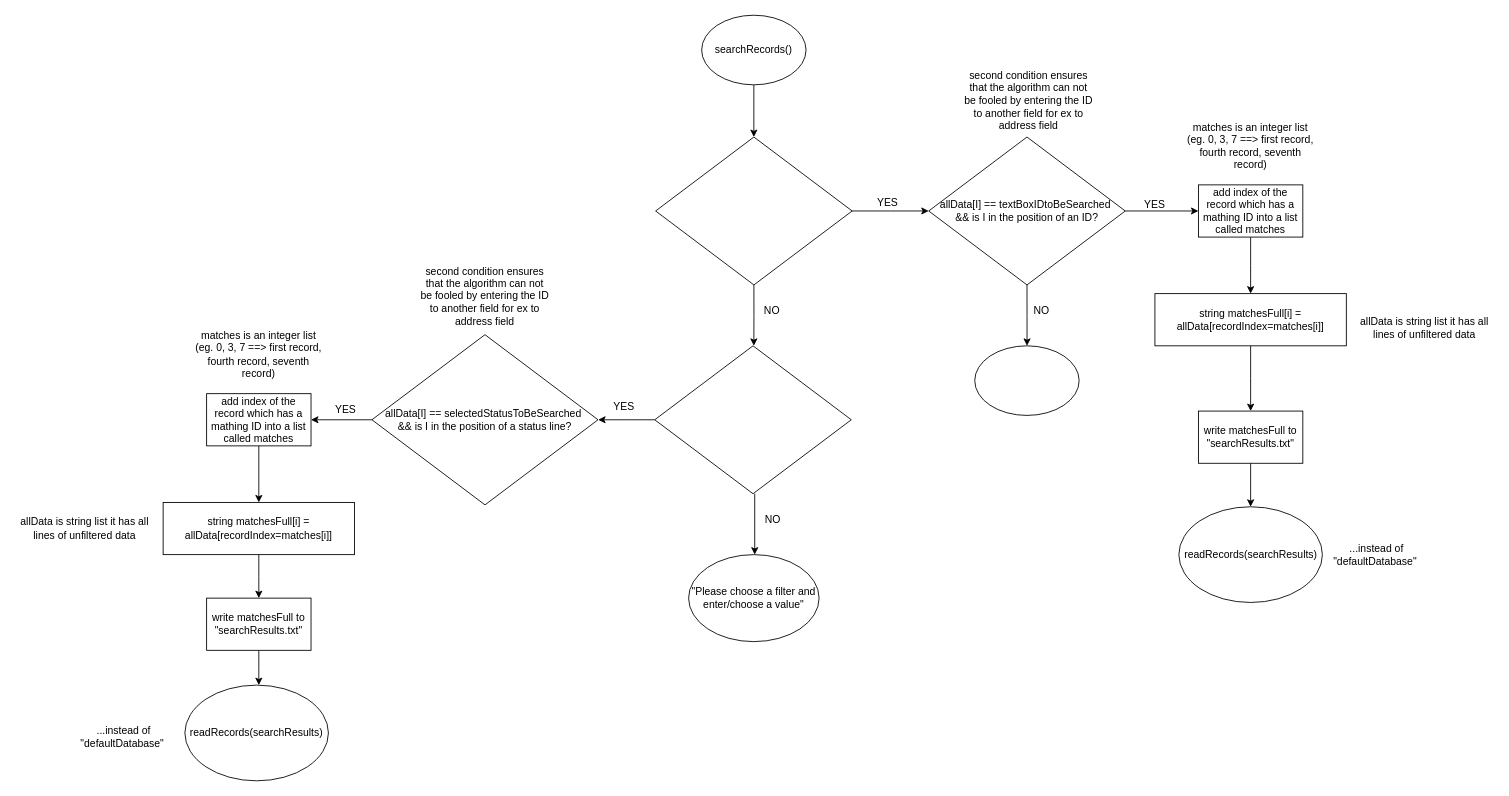
The diagram is 1509 pixels wide and 796 high, and some of its shapes have lost their labels. The shapes that lost their labels are listed below. From the top down, each one's centre as x and y in pixels, then its label:
point 753,210: radioButtonID checked? && textBoxIDtoBeSearched nonempty?
point 1026,380: "No results were found!"
point 752,419: radioButtonStatus checked? && comboBoxSelection nonempty?
